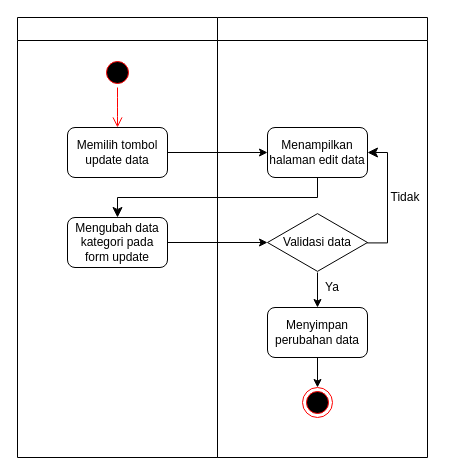
This 453x475 diagram has some shape labels left out. Here are the shapes that lost their labels. From the top down, the box of each, then its label:
(16, 16, 218, 458): User
(216, 16, 428, 458): Sistem
